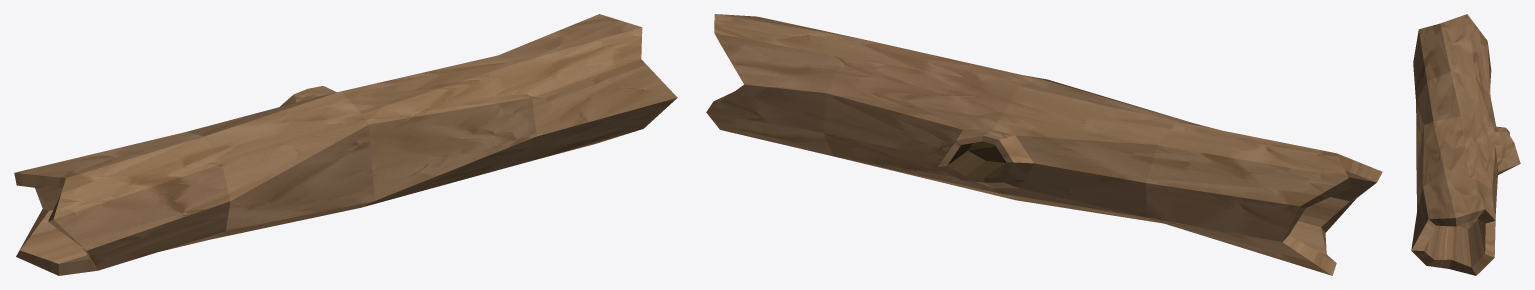
Rendered from log.FBX.
3 views of the same model, side by side, from view 1: azimuth 30°, elevation 25°; view 2: azimuth 150°, elevation 25°; view 3: azimuth 270°, elevation 25° (orthographic). The views are drawn at different scales.
Visible parts, largest first — view 1: Object001; view 2: Object001; view 3: Object001.
Part boxes in pixels (box(x1,y1,x2,y2)): Object001: box(14, 14, 677, 275); Object001: box(706, 14, 1382, 275); Object001: box(1411, 14, 1520, 275).
Bounding box in the file's own units: 105 × 17.5 × 23.62.
Materials: 2 (2 with a texture image).
